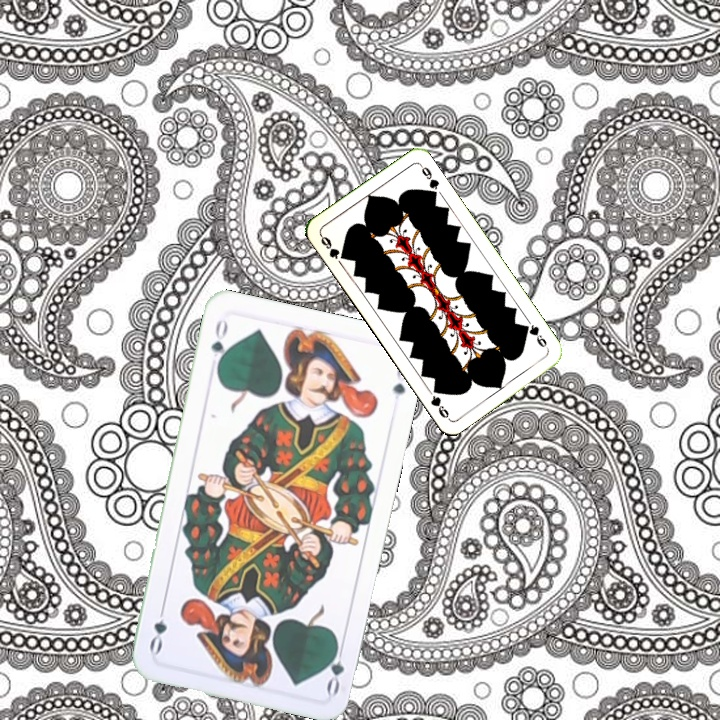G9: (519, 316, 551, 352), (316, 230, 349, 262)
GO: (321, 637, 347, 697), (206, 315, 231, 374)
